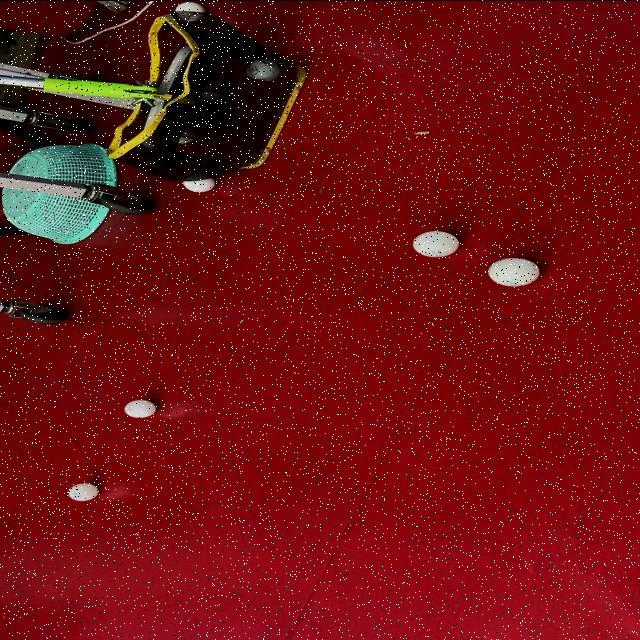ping-pong-ball: (487, 256, 541, 286), (411, 230, 461, 258), (246, 59, 284, 80), (123, 398, 159, 418), (173, 1, 206, 21), (66, 482, 100, 501), (182, 174, 216, 192)
